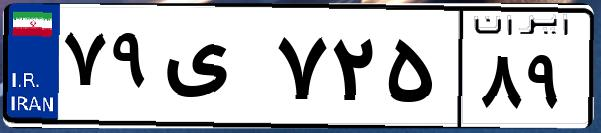2: (330, 28, 385, 110)
5: (385, 28, 445, 110)
7: (270, 28, 330, 110), (57, 26, 110, 100)
8: (475, 38, 525, 113)
9: (525, 38, 570, 115), (110, 28, 158, 98)
ی: (158, 20, 270, 120)
